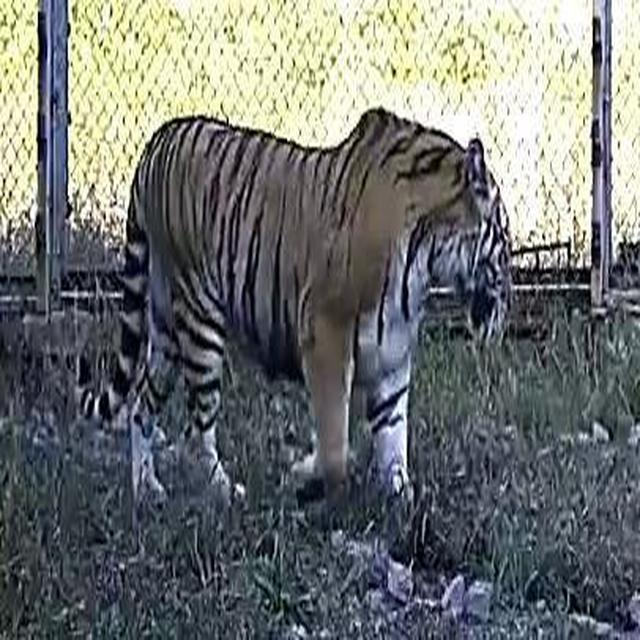tiger: (88, 104, 516, 523)
